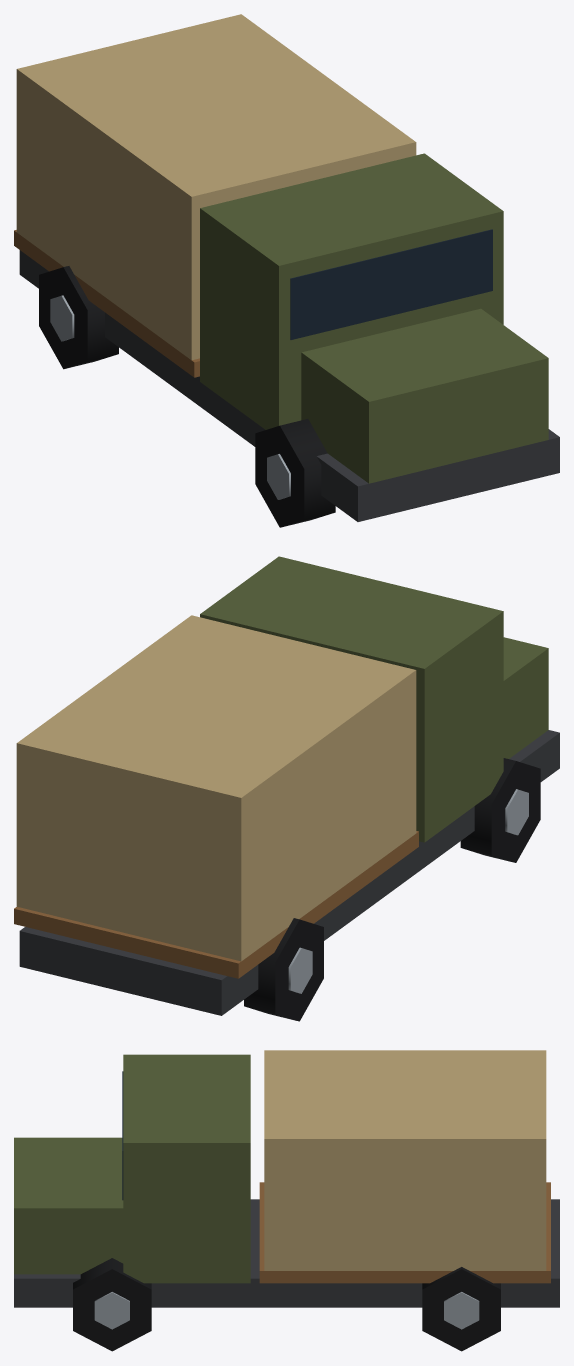
File: veh_ground_truck_a06_lod1.glb
The picture shows the model from 3 angles, top to bottom: view 1: azimuth 30°, elevation 25°; view 2: azimuth 150°, elevation 25°; view 3: azimuth 270°, elevation 25°; orthographic projection. The views are drawn at different scales.
Parts seen in each view (by area): view 1: body, wheel_2, wheel_0; view 2: body, wheel_2, wheel_0; view 3: body, wheel_3, wheel_1.
Boxes of the visible parts, bbox=[...] form: body: bbox=[14, 14, 559, 521]; wheel_2: bbox=[255, 419, 335, 527]; wheel_0: bbox=[39, 266, 118, 369]; body: bbox=[14, 556, 559, 1015]; wheel_2: bbox=[460, 758, 540, 862]; wheel_0: bbox=[244, 918, 323, 1021]; body: bbox=[14, 1050, 559, 1307]; wheel_3: bbox=[73, 1258, 151, 1351]; wheel_1: bbox=[422, 1267, 500, 1351].
Bounding box in the file's own units: 2.46 × 2.55 × 6.
